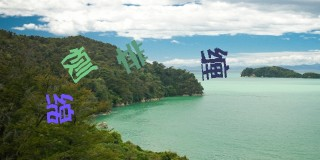恻: (61, 45, 98, 84)
悱: (115, 39, 148, 73)
绵: (44, 92, 74, 124)
缠: (200, 47, 230, 81)
